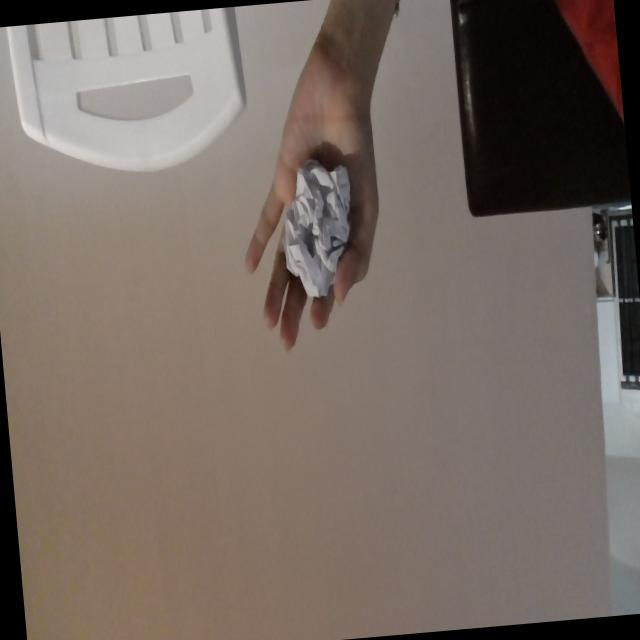crumpled_paper: (272, 149, 362, 311)
